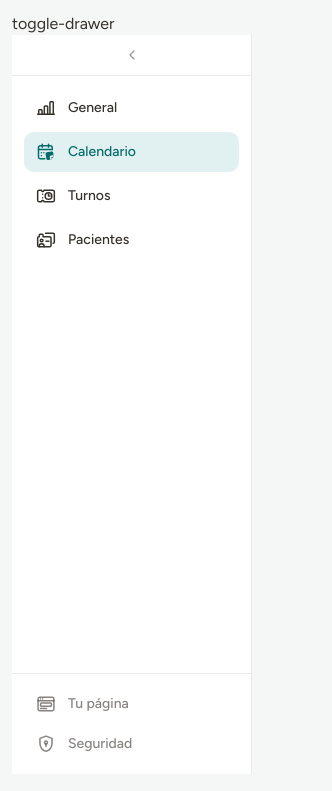
Test: PanelSidebar › se puede retraer y expandir (solo escritorio)
Click the button named "Retraer menú".
click(132, 56)  # box top-left (12, 35), bottom-right (251, 76)
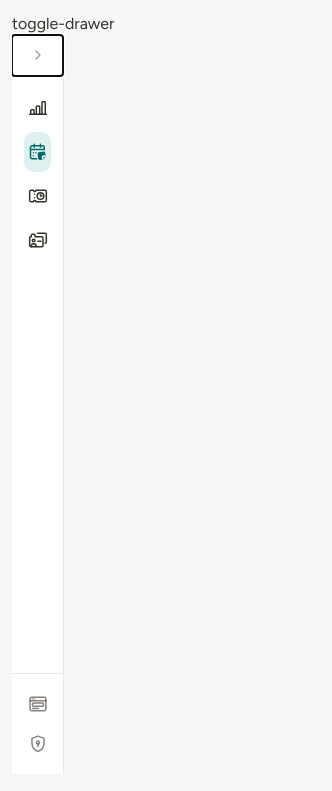
Check: the button named "Expandir menú" is shown, box top-left (12, 35), bottom-right (63, 76)
Check: the text "General" is gone
